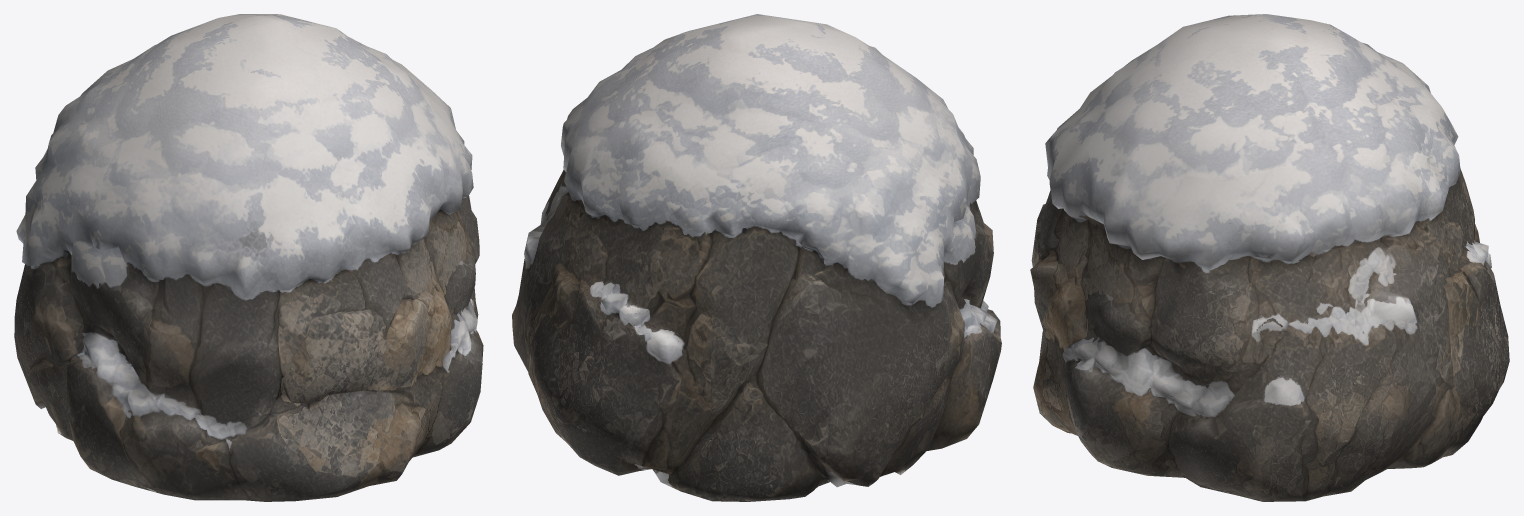
The model's file is PR_Boulder_Snow.fbx.
3 renders of one model, left to right at view 1: azimuth 30°, elevation 25°; view 2: azimuth 150°, elevation 25°; view 3: azimuth 270°, elevation 25°, orthographic.
Visible parts, largest first — view 1: texture_mapping; view 2: texture_mapping; view 3: texture_mapping.
Boxes of the visible parts, bbox=[...] form: texture_mapping: bbox=[14, 14, 483, 501]; texture_mapping: bbox=[512, 14, 1001, 501]; texture_mapping: bbox=[1030, 14, 1509, 501].
Bounding box in the file's own units: 0.9934 × 0.9881 × 0.8974.
1 material, 1 textured.
